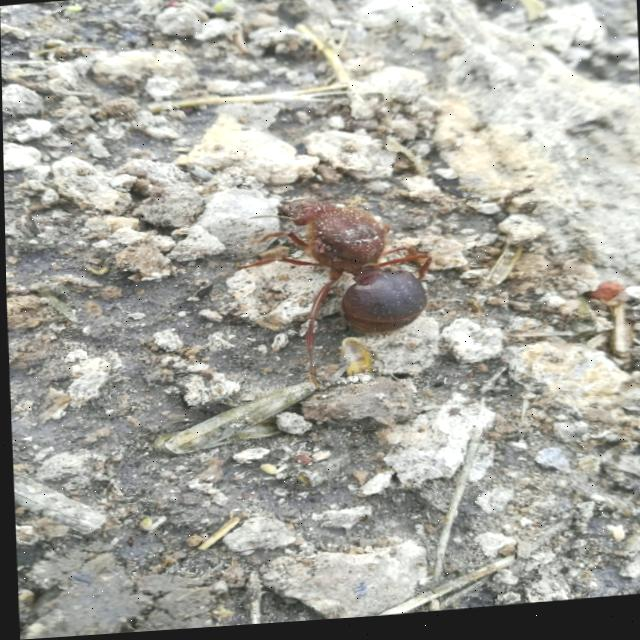Alive-Female-Dealate: (229, 193, 437, 397)
